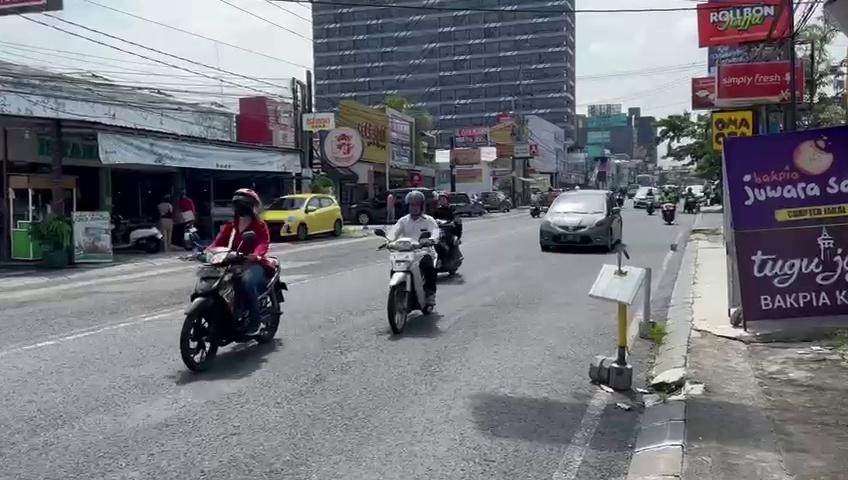helm: (229, 185, 266, 220), (405, 191, 425, 217)
riding: (175, 185, 291, 378), (371, 189, 447, 338)
